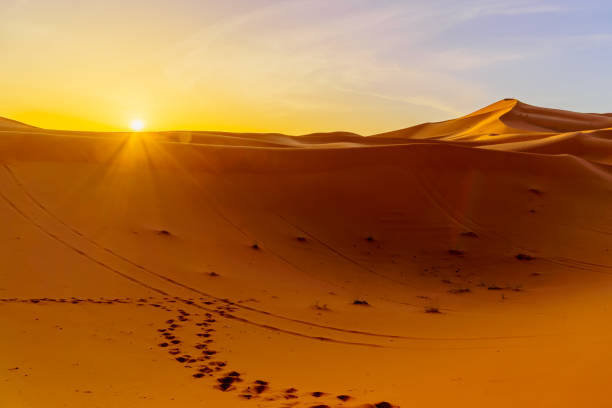animal_foot_print: (0, 297, 352, 406)
